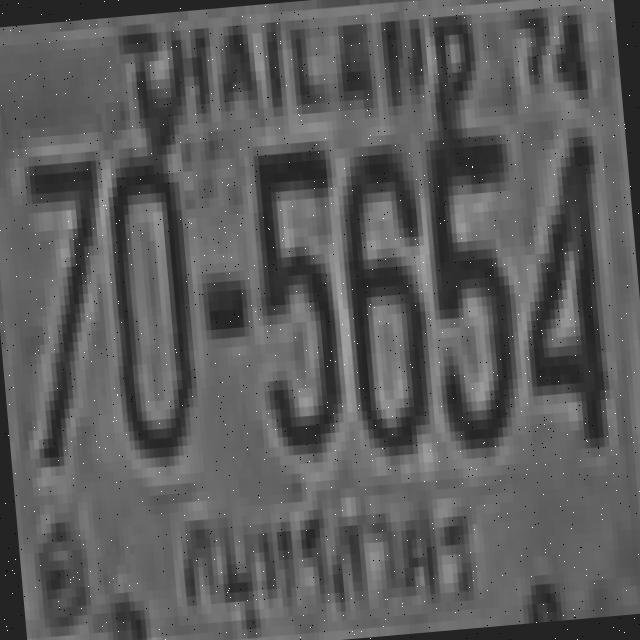0: (94, 144, 198, 460)
4: (504, 117, 613, 443)
5: (418, 111, 526, 446), (242, 131, 350, 447)
6: (331, 133, 434, 449)
7: (18, 146, 115, 452)
SamutSakhon: (158, 474, 494, 640)
